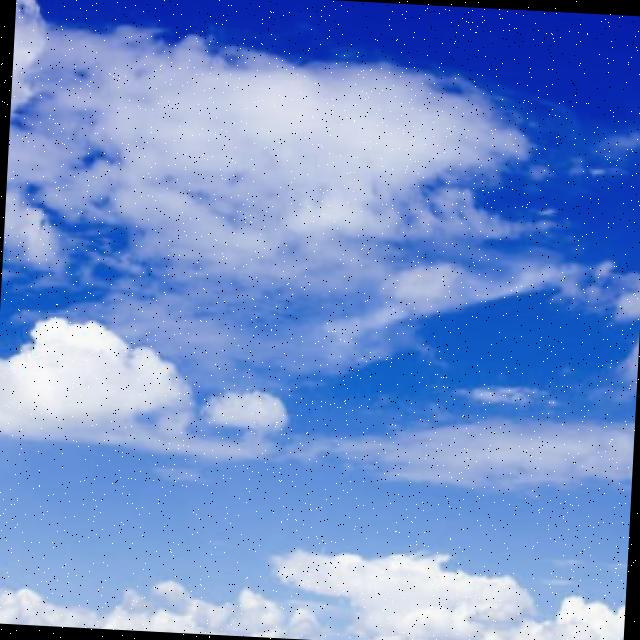Cu: (1, 58, 640, 637)
